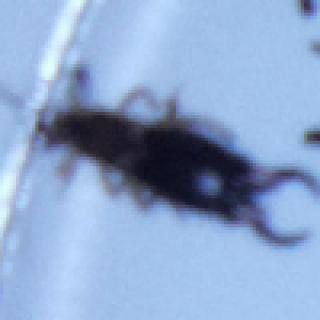earwig: (29, 70, 317, 251)
